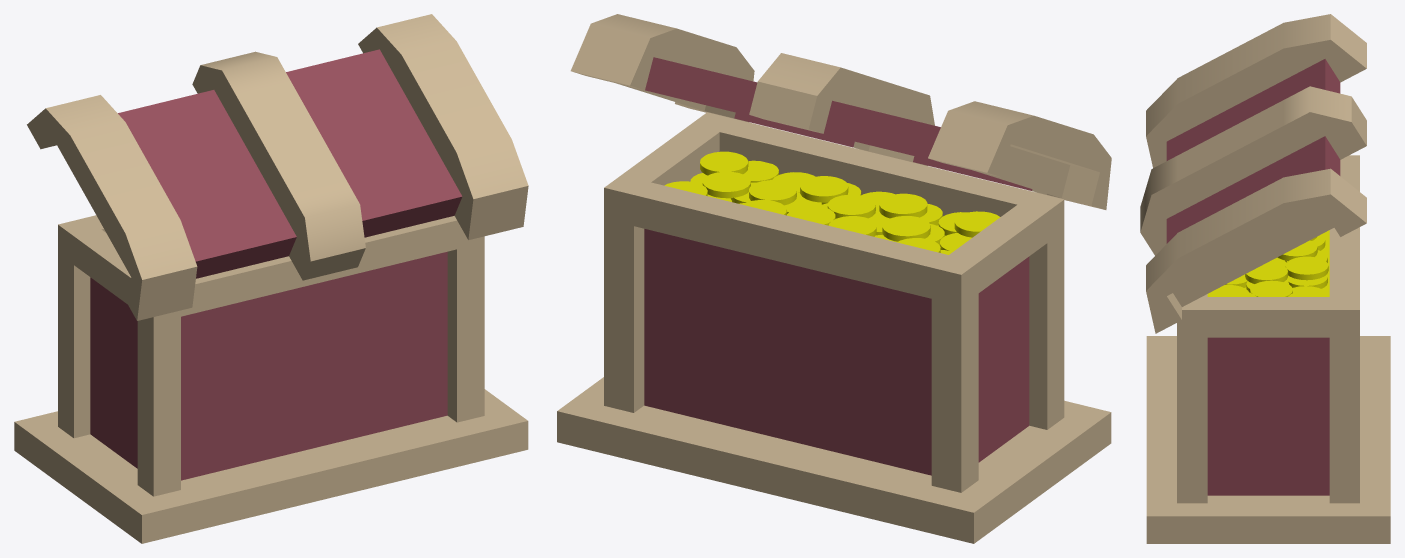
The model's file is OpenTreasureChest.fbx.
3 renders of one model, left to right at view 1: azimuth 30°, elevation 25°; view 2: azimuth 150°, elevation 25°; view 3: azimuth 270°, elevation 25°, orthographic. The views are drawn at different scales.
Parts seen in each view (by area): view 1: OpenTreasureChest; view 2: OpenTreasureChest; view 3: OpenTreasureChest.
Boxes of the visible parts, box(x1,y1,x2,y2) form: OpenTreasureChest: box(14, 14, 528, 543); OpenTreasureChest: box(557, 14, 1111, 543); OpenTreasureChest: box(1140, 14, 1390, 543).
Bounding box in the file's own units: 350 × 321 × 205.
